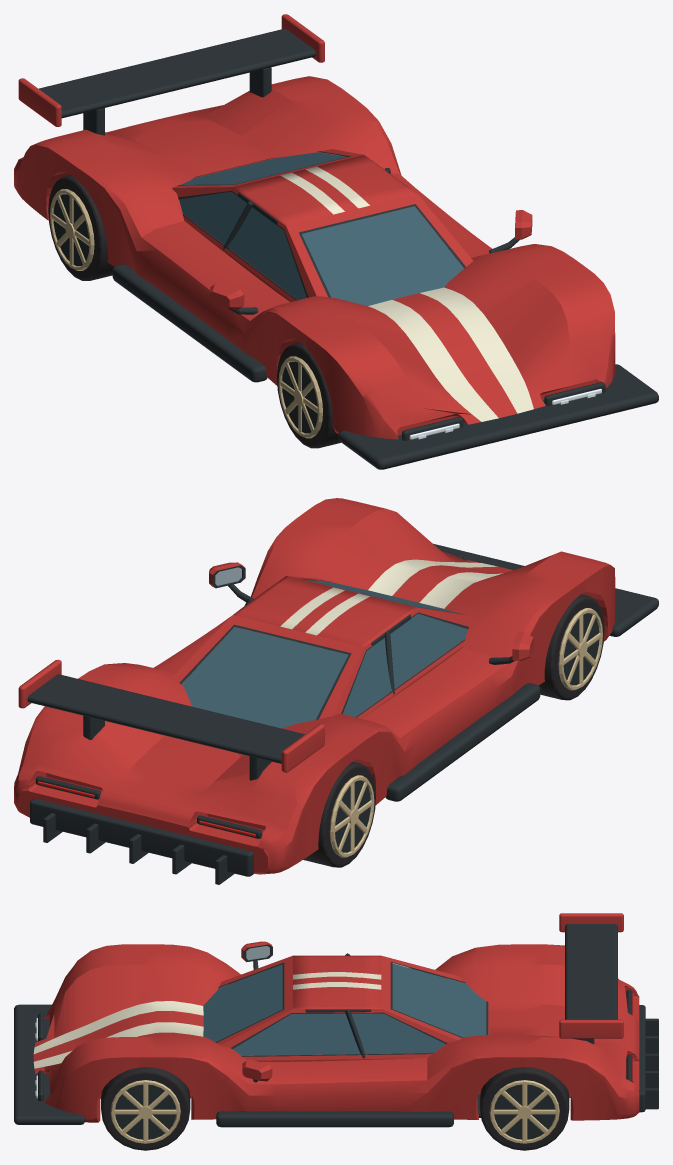
Rendered from VEH_Apex_Prototype.glb.
3 views of the same model, one above another, from view 1: azimuth 30°, elevation 25°; view 2: azimuth 150°, elevation 25°; view 3: azimuth 270°, elevation 25° (orthographic). The views are drawn at different scales.
Parts seen in each view (by area): view 1: GT_sculpted_body, Glass_windscreen, Rear_wing, Front_splitter, Continuous_roof_panel, Glass_left, Side_skirt, Integrated_windscreen_surround, Tyre.001, Glass_rear, Tyre, Integrated_left_surround (+8 smaller); view 2: GT_sculpted_body, Glass_rear, Rear_wing, Continuous_roof_panel, Glass_left, Rear_diffuser, Side_skirt, Integrated_rear_surround, Tyre, Tyre.001, Front_splitter, Integrated_left_surround (+8 smaller); view 3: GT_sculpted_body, Glass_right, Rear_wing, Continuous_roof_panel, Glass_rear, Side_skirt.001, Glass_windscreen, Front_splitter, Tyre.003, Tyre.002, Integrated_right_surround, Rim_dark_inset.003 (+11 smaller).
Part boxes in pixels (x1,y1,x2,y2): GT_sculpted_body: (14,76,615,439); Glass_windscreen: (302,206,463,305); Rear_wing: (39,28,315,118); Front_splitter: (338,364,658,469); Continuous_roof_panel: (233,155,417,225); Glass_left: (179,192,306,299); Side_skirt: (112,264,267,382); Integrated_windscreen_surround: (286,194,472,297); Tyre.001: (48,175,113,280); Glass_rear: (181,152,346,184); Tyre: (277,342,340,448); Integrated_left_surround: (172,187,316,301); GT_sculpted_body: (14,498,615,874); Glass_rear: (181,627,348,728); Rear_wing: (27,674,304,763); Continuous_roof_panel: (233,576,417,646); Glass_left: (343,613,467,716); Rear_diffuser: (30,798,254,876); Side_skirt: (385,683,540,801); Integrated_rear_surround: (172,615,364,718); Tyre: (538,594,604,700); Tyre.001: (303,761,375,867); Front_splitter: (433,543,658,636); Integrated_left_surround: (332,608,472,718); GT_sculpted_body: (33,944,639,1122); Glass_right: (233,1013,445,1055); Rear_wing: (565,924,617,1019); Continuous_roof_panel: (293,955,381,1008); Glass_rear: (392,963,486,1037); Side_skirt.001: (216,1111,453,1127); Glass_windscreen: (203,964,282,1042); Front_splitter: (14,1004,85,1124); Tyre.003: (480,1067,569,1150); Tyre.002: (101,1067,190,1150); Integrated_right_surround: (220,1009,457,1060); Rim_dark_inset.003: (494,1084,554,1139).
Size of the model in its own units: 2.31 by 1.07 by 4.85.
